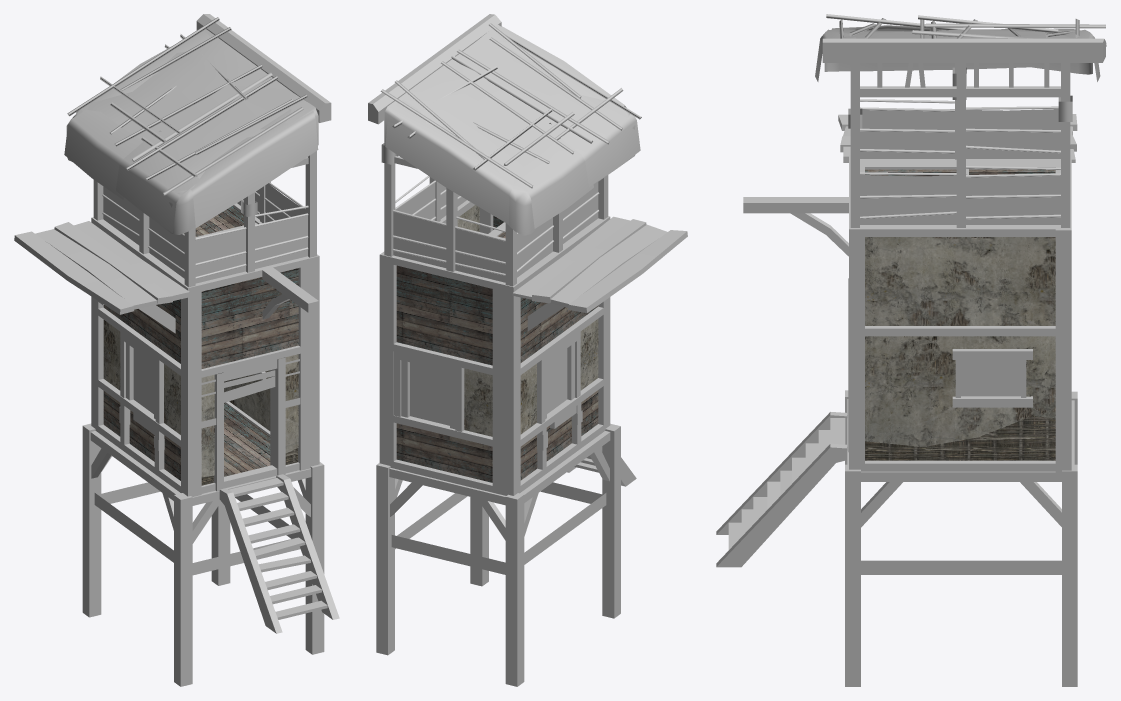
The model's file is Tower2_LOD1.fbx.
3 views of the same model, side by side, from view 1: azimuth 30°, elevation 25°; view 2: azimuth 150°, elevation 25°; view 3: azimuth 270°, elevation 25° (orthographic). The views are drawn at different scales.
Parts seen in each view (by area): view 1: Base, Stairs; view 2: Base, Stairs; view 3: Base, Stairs.
Part boxes in pixels (x1,y1,x2,y2): Base: (14,14,331,686); Stairs: (219,474,339,633); Base: (368,14,687,686); Stairs: (567,446,636,486); Base: (743,14,1106,686); Stairs: (716,411,847,567).
Size of the model in its own units: 5.34 by 13.62 by 7.42.
